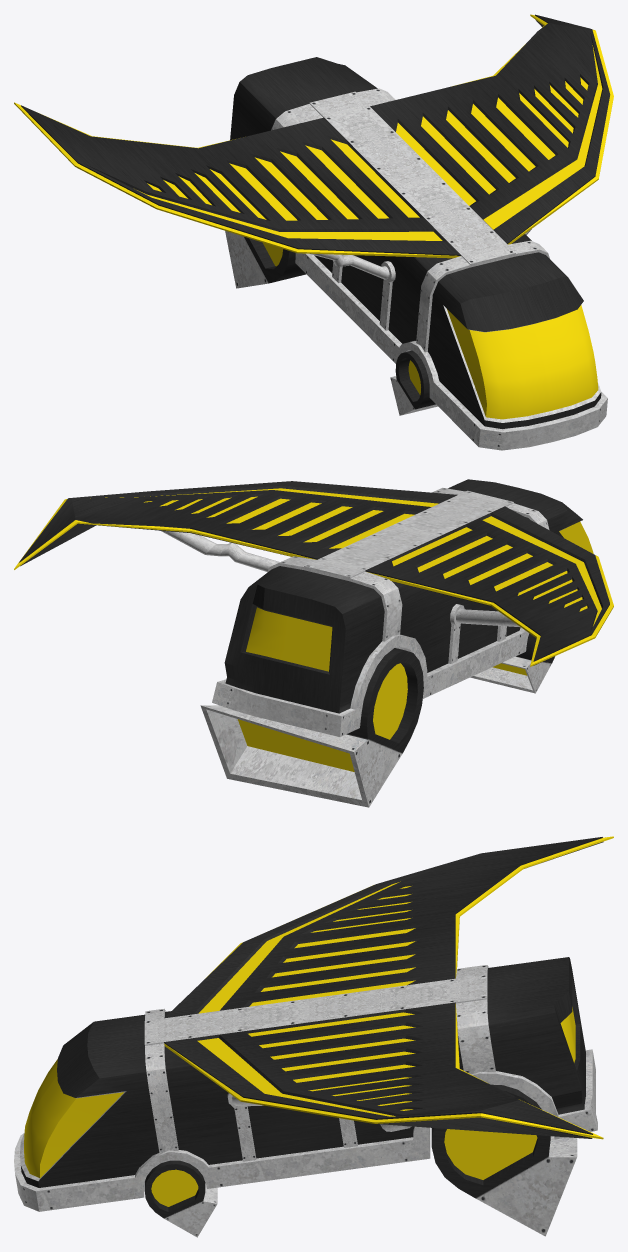
File: TheBus_80.fbx
The picture shows the model from 3 angles, top to bottom: view 1: azimuth 30°, elevation 25°; view 2: azimuth 150°, elevation 25°; view 3: azimuth 270°, elevation 25°; orthographic projection. The views are drawn at different scales.
Visible parts, largest first — view 1: Body, Back_Thrust, FrontThrust, pipe1; view 2: Body, Back_Thrust, FrontThrust, pipe4, pipe2; view 3: Body, Back_Thrust, FrontThrust.
Boxes of the visible parts, bbox=[...] form: Body: bbox=[14, 14, 613, 450]; Back_Thrust: bbox=[225, 231, 305, 288]; FrontThrust: bbox=[390, 350, 437, 415]; pipe1: bbox=[309, 253, 395, 282]; Body: bbox=[14, 479, 613, 736]; Back_Thrust: bbox=[200, 648, 423, 807]; FrontThrust: bbox=[470, 633, 555, 693]; pipe4: bbox=[160, 530, 279, 571]; pipe2: bbox=[450, 604, 520, 627]; Body: bbox=[14, 836, 613, 1211]; Back_Thrust: bbox=[431, 1084, 577, 1236]; FrontThrust: bbox=[144, 1160, 217, 1237].
Bounding box in the file's own units: 5.95 × 2.37 × 5.58.
